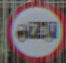Heavy Vehicles: (4, 3, 64, 53)
